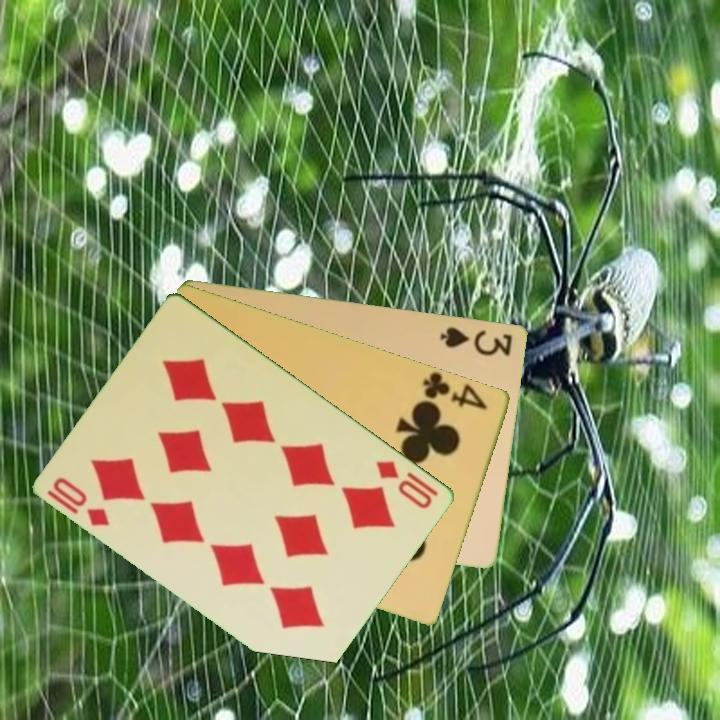10d: (44, 473, 113, 529), (373, 456, 436, 512)
3s: (437, 323, 516, 359)
4c: (420, 369, 491, 412)
